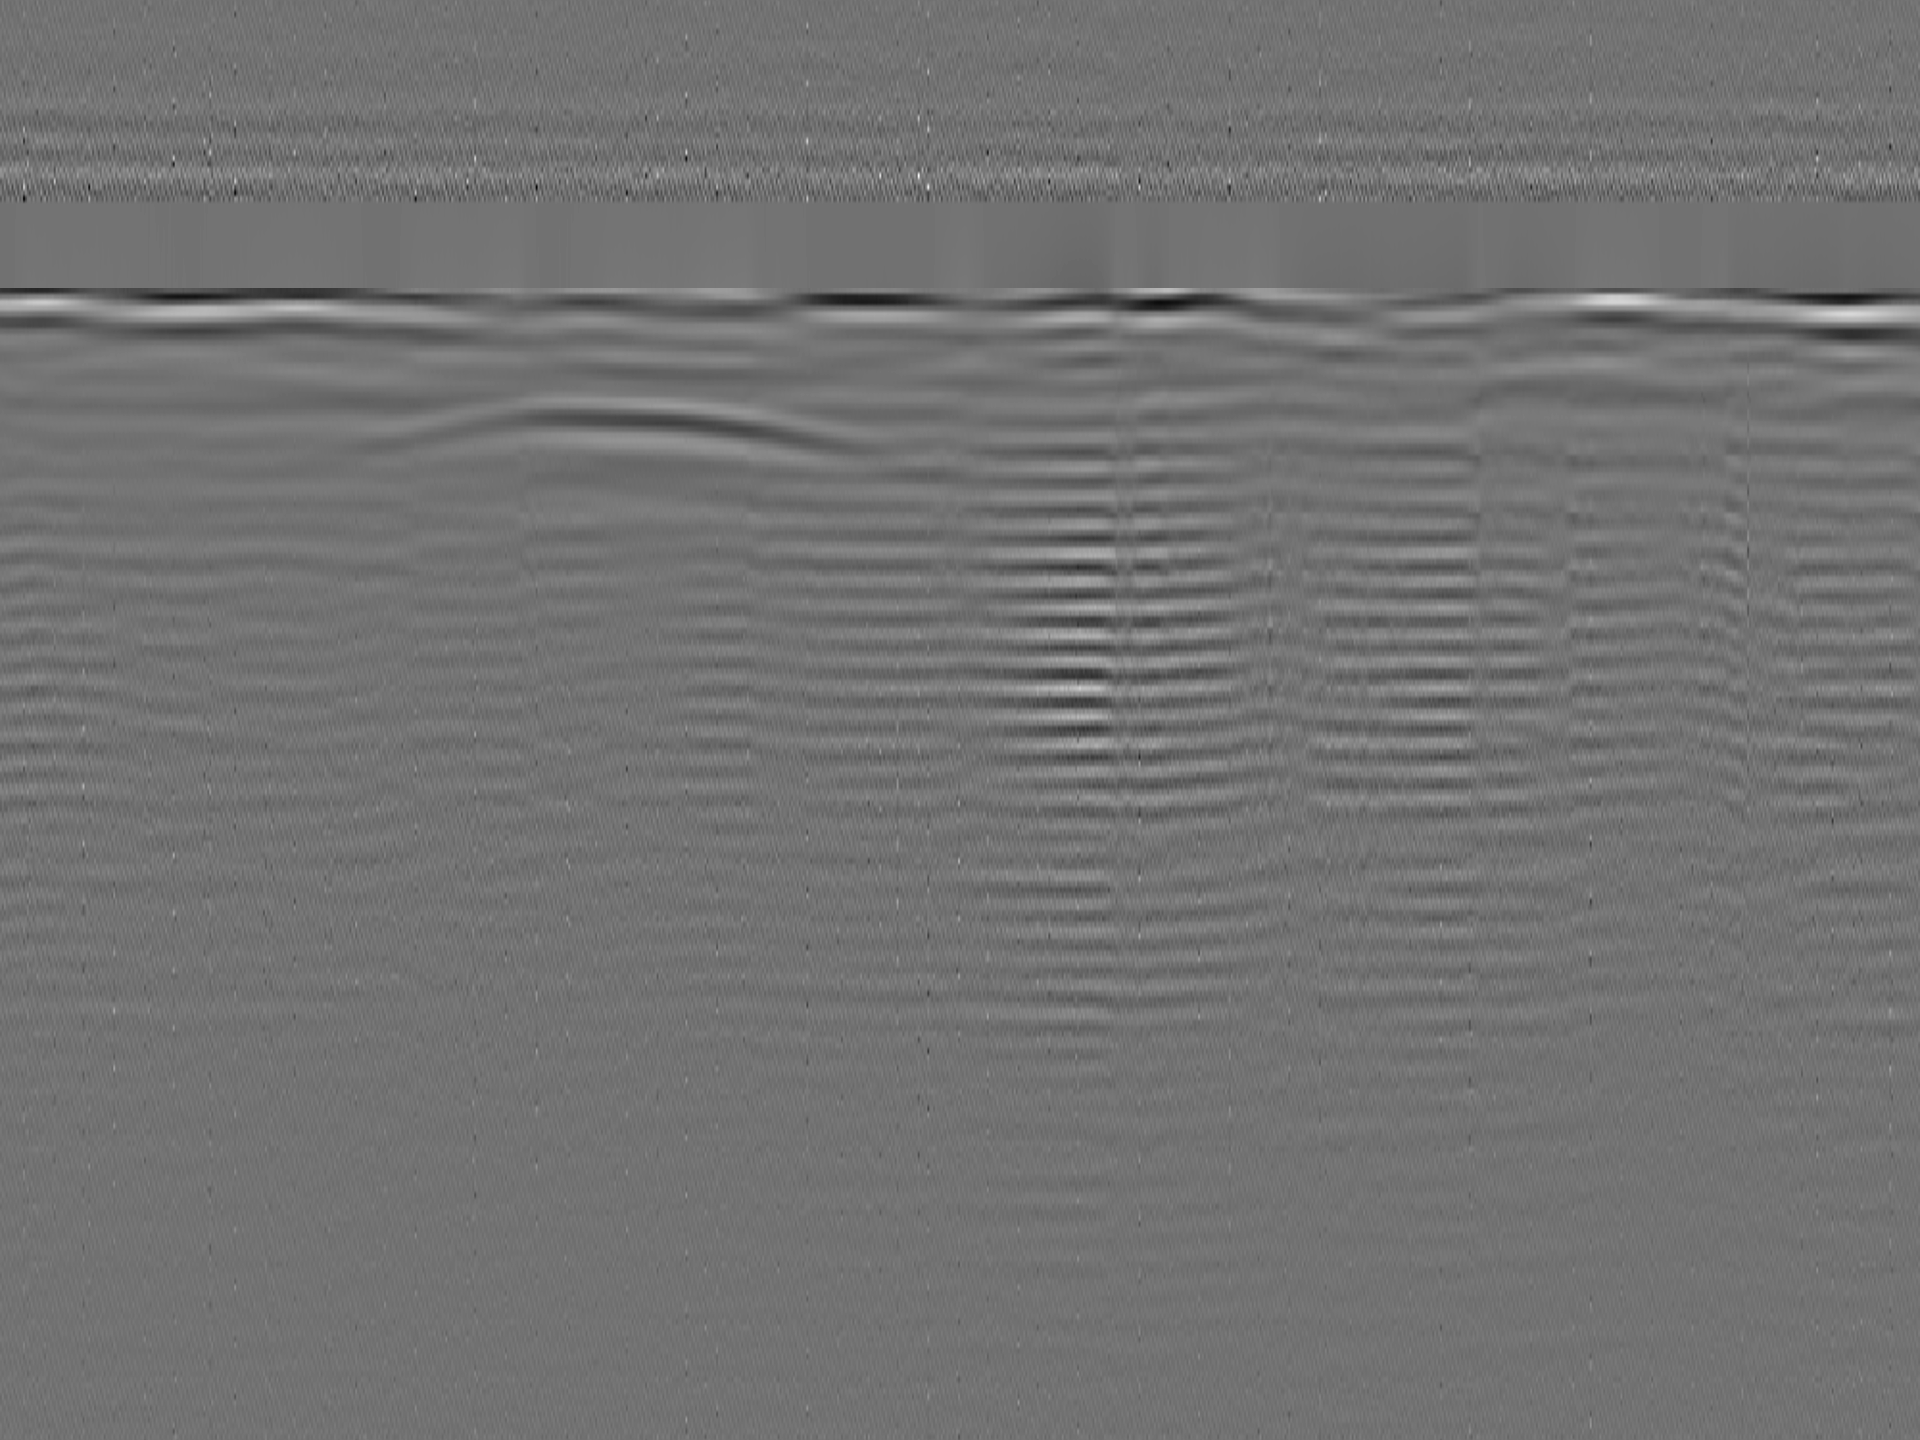Tunnel: (340, 395, 924, 469)
